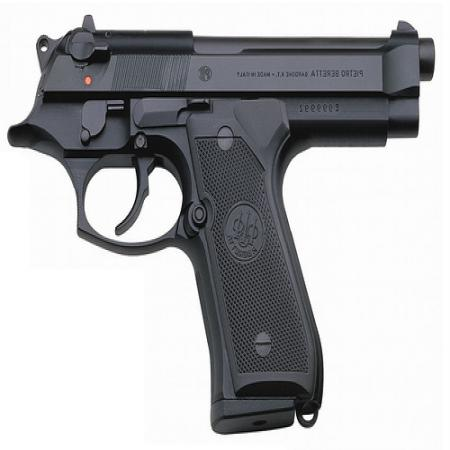Pistol: (6, 15, 436, 435)
